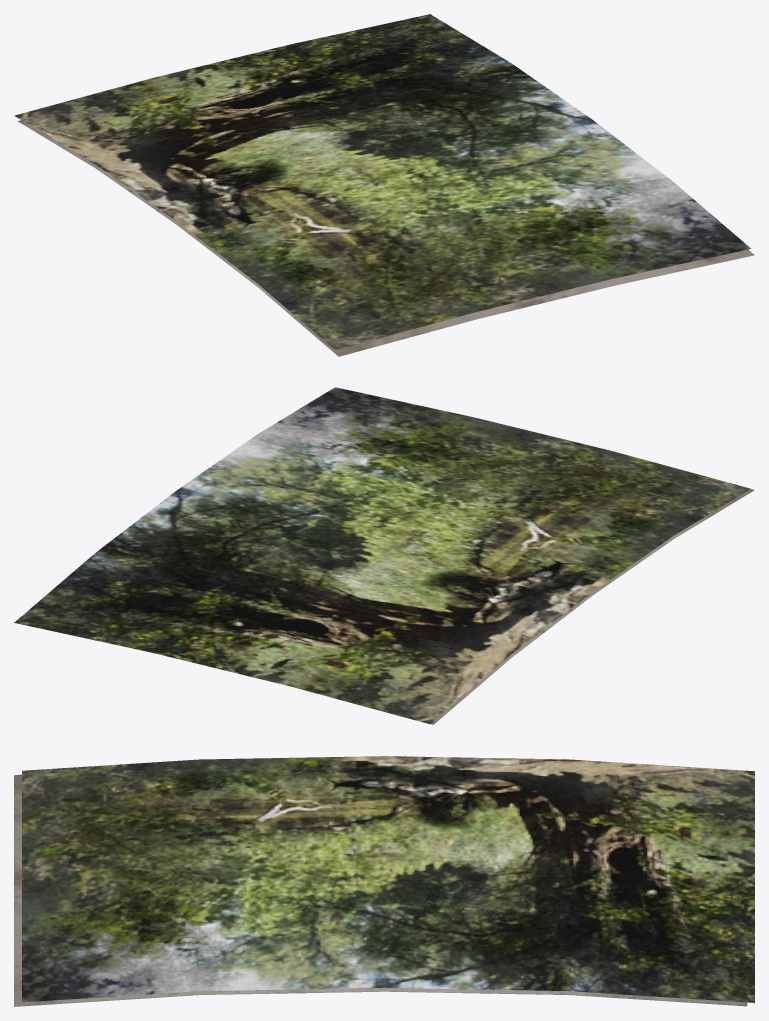
Rendered from 04_02_lindwall_photos09.dae.
3 renders of one model, top to bottom at view 1: azimuth 30°, elevation 25°; view 2: azimuth 150°, elevation 25°; view 3: azimuth 270°, elevation 25°, orthographic. The views are drawn at different scales.
Parts seen in each view (by area): view 1: photograph_world01; view 2: photograph_world01; view 3: photograph_world01.
Boxes of the visible parts, x1,y1,x2,y2 form: photograph_world01: (14,14,754,356); photograph_world01: (14,387,754,724); photograph_world01: (14,756,754,1006).
Bounding box in the file's own units: 0.1526 × 0.0072 × 0.2062.
